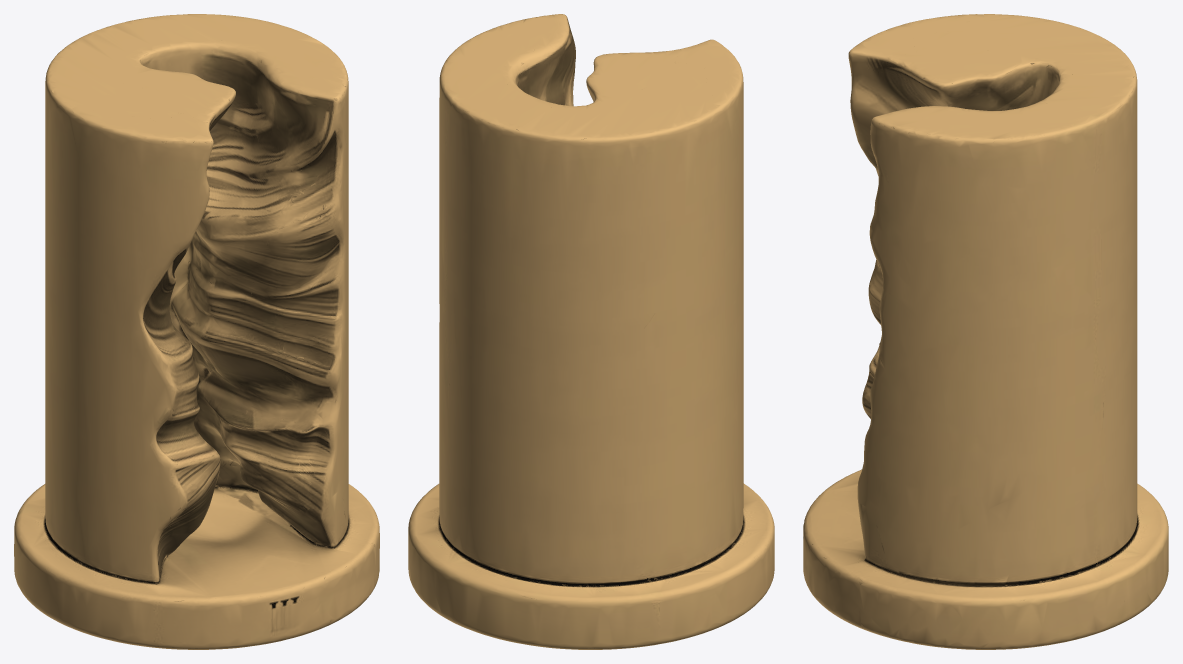
Rendered from antelope_canyon.glb.
The picture shows the model from 3 angles, left to right: view 1: azimuth 30°, elevation 25°; view 2: azimuth 150°, elevation 25°; view 3: azimuth 270°, elevation 25°; orthographic projection.
Parts seen in each view (by area): view 1: Mesh_0; view 2: Mesh_0; view 3: Mesh_0.
Part boxes in pixels (box(x1,y1,x2,y2)): Mesh_0: box(14, 14, 379, 649); Mesh_0: box(408, 14, 774, 649); Mesh_0: box(803, 14, 1168, 649).
Size of the model in its own units: 1.27 by 1.91 by 1.27.
1 material, 1 textured.
